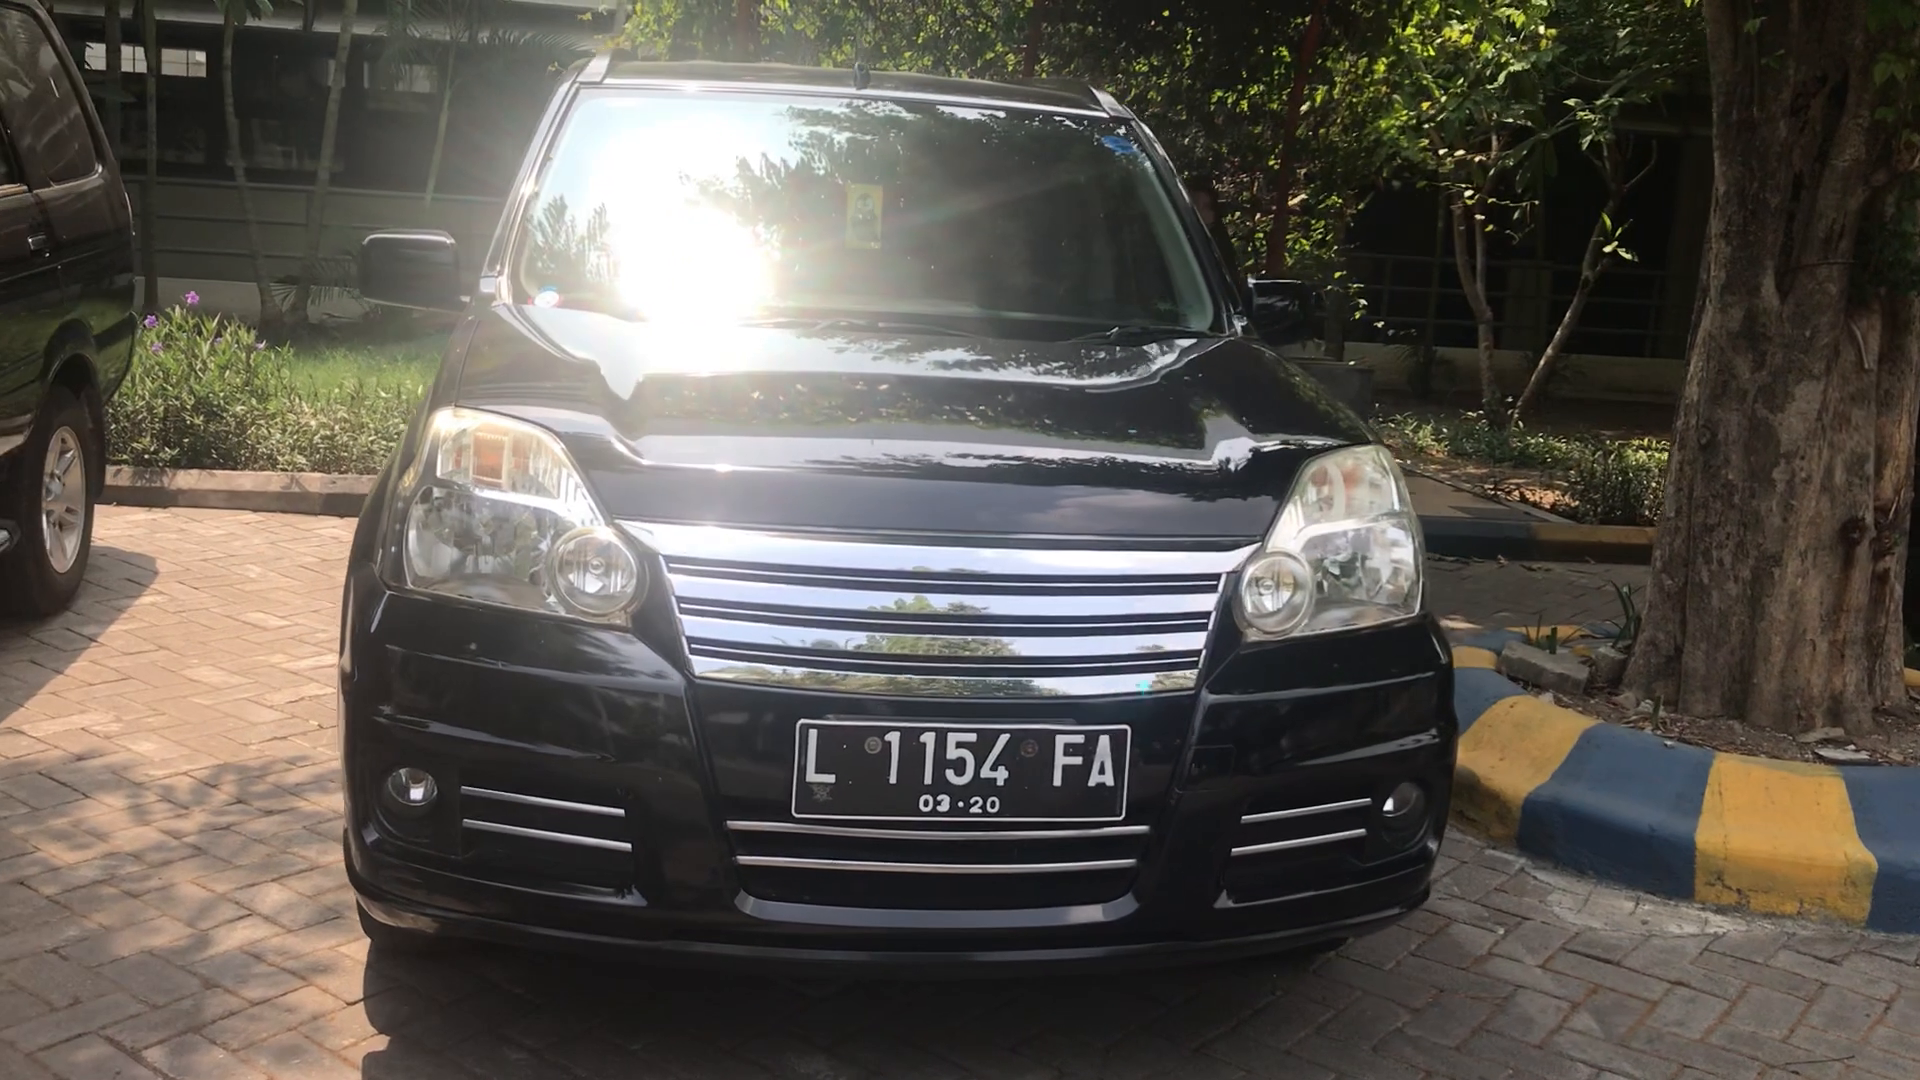plate: (795, 717, 1127, 830)
